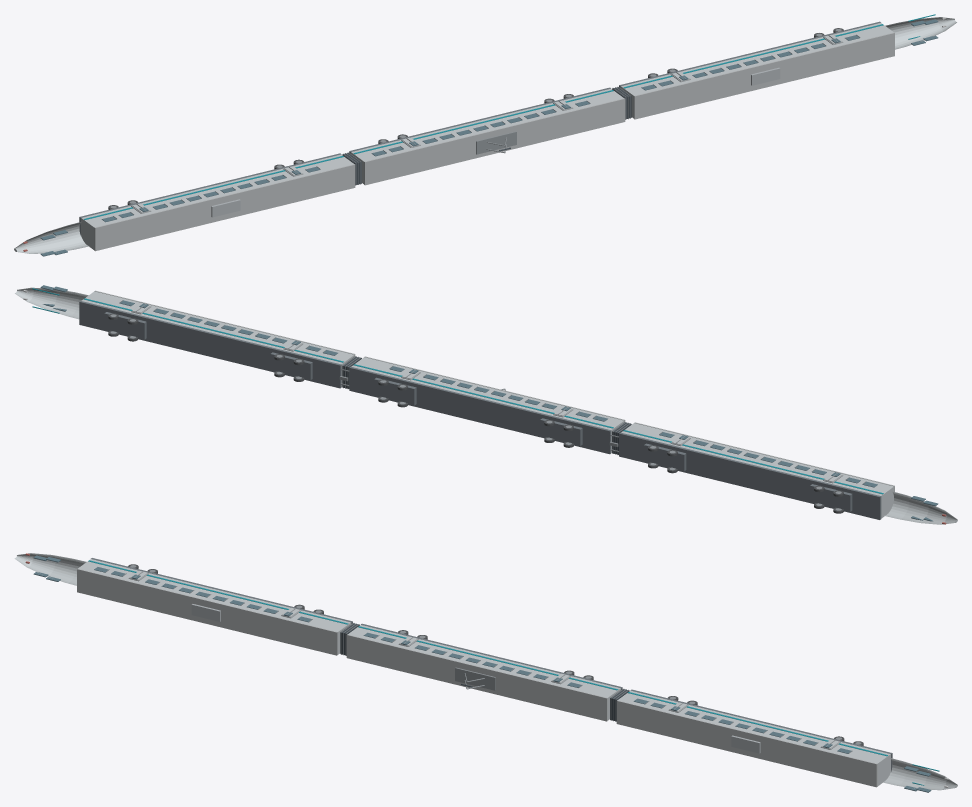
Rendered from modern_high_speed_train.glb.
The picture shows the model from 3 angles, top to bottom: view 1: azimuth 30°, elevation 25°; view 2: azimuth 150°, elevation 25°; view 3: azimuth 330°, elevation 25°; orthographic projection.
Parts seen in each view (by area): view 1: roof_cap_3, roof_cap_179, roof_cap_91, passenger_car_body_1, passenger_car_body_177, passenger_car_body_89, rear_aerodynamic_nose_276, high_speed_streamlined_nose_275, pantograph_mount_291, skirt_2, skirt_90, skirt_178; view 2: skirt_178, skirt_90, skirt_2, passenger_car_body_1, passenger_car_body_177, passenger_car_body_89, rear_aerodynamic_nose_276, high_speed_streamlined_nose_275, bogie_chassis_77, bogie_chassis_253, bogie_chassis_165, bogie_chassis_154 (+2 smaller); view 3: roof_cap_179, roof_cap_3, roof_cap_91, passenger_car_body_177, passenger_car_body_1, passenger_car_body_89, high_speed_streamlined_nose_275, rear_aerodynamic_nose_276, pantograph_mount_291, skirt_178, skirt_2, skirt_90.
Boxes of the visible parts, x1,y1,x2,y2 form: roof_cap_3: (94,164,355,251); roof_cap_179: (634,32,894,119); roof_cap_91: (364,98,625,185); passenger_car_body_1: (81,154,353,249); passenger_car_body_177: (620,23,893,118); passenger_car_body_89: (351,88,623,184); rear_aerodynamic_nose_276: (14,221,89,253); high_speed_streamlined_nose_275: (885,17,956,49); pantograph_mount_291: (476,131,516,154); skirt_2: (79,153,341,235); skirt_90: (349,87,610,153); skirt_178: (619,21,880,87); skirt_178: (79,301,341,388); skirt_90: (349,366,611,454); skirt_2: (619,432,881,519); passenger_car_body_1: (621,423,894,518); passenger_car_body_177: (81,291,354,386); passenger_car_body_89: (351,357,624,452); rear_aerodynamic_nose_276: (884,491,957,524); high_speed_streamlined_nose_275: (15,287,88,319); bogie_chassis_77: (644,443,686,471); bogie_chassis_253: (104,312,146,339); bogie_chassis_165: (374,377,416,405); bogie_chassis_154: (540,418,582,446); roof_cap_179: (616,700,877,787); roof_cap_3: (77,568,337,655); roof_cap_91: (346,634,607,721); passenger_car_body_177: (618,690,890,786); passenger_car_body_1: (78,559,351,654); passenger_car_body_89: (348,625,620,720); high_speed_streamlined_nose_275: (882,758,957,790); rear_aerodynamic_nose_276: (14,553,86,585); pantograph_mount_291: (455,667,495,690); skirt_178: (630,689,892,771); skirt_2: (91,558,352,623); skirt_90: (361,623,622,689).
Bounding box in the file's own units: 136 × 3.79 × 8.02.
